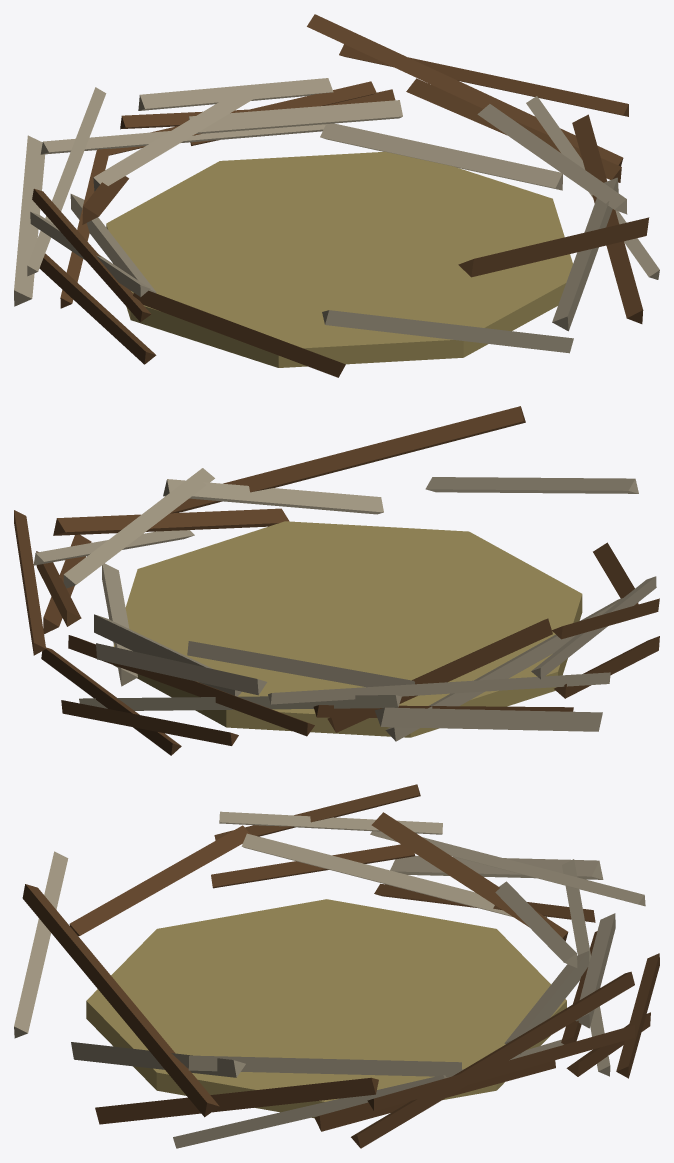
File: Nest.fbx
3 renders of one model, top to bottom at view 1: azimuth 30°, elevation 25°; view 2: azimuth 150°, elevation 25°; view 3: azimuth 270°, elevation 25°, orthographic.
Visible parts, largest first — view 1: Nest; view 2: Nest; view 3: Nest.
Boxes of the visible parts, box(x1,y1,x2,y2) form: Nest: box(14, 14, 659, 377); Nest: box(14, 406, 659, 755); Nest: box(14, 784, 659, 1148).
Size of the model in its own units: 1.71 by 0.3896 by 1.61.
